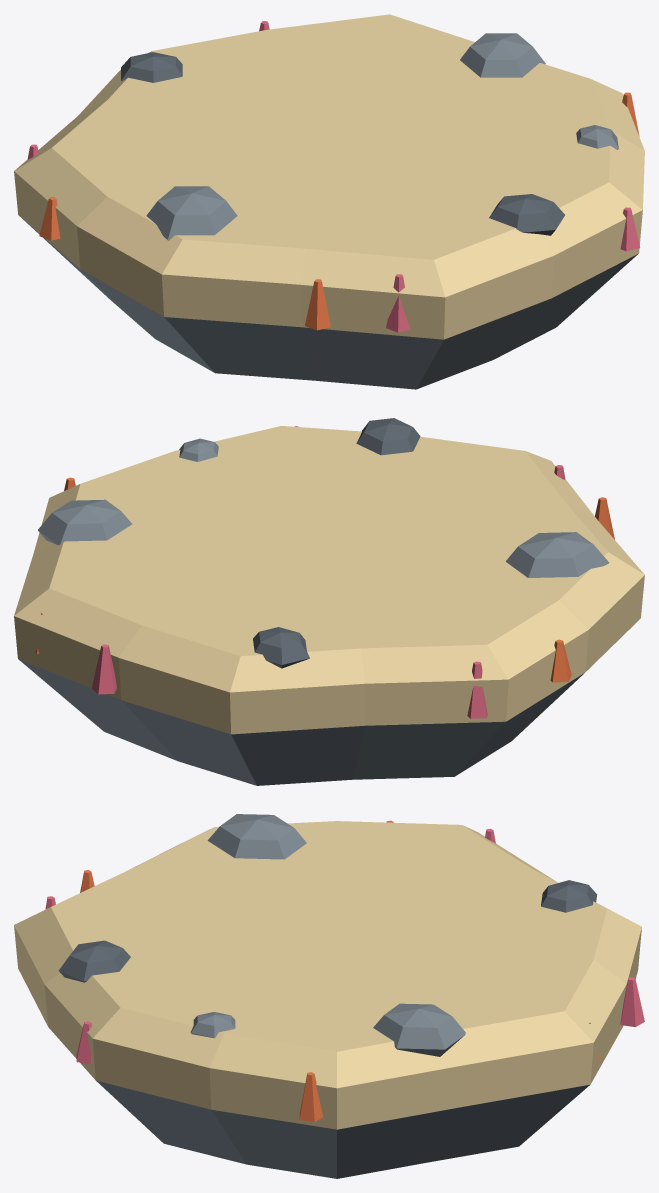
The model's file is reef.glb.
3 renders of one model, top to bottom at view 1: azimuth 30°, elevation 25°; view 2: azimuth 150°, elevation 25°; view 3: azimuth 270°, elevation 25°, orthographic. The views are drawn at different scales.
Parts seen in each view (by area): view 1: Body; view 2: Body; view 3: Body.
Boxes of the visible parts, x1=… form: Body: x1=14, y1=14, x2=644, y2=389; Body: x1=14, y1=418, x2=644, y2=785; Body: x1=14, y1=814, x2=644, y2=1178.
Bounding box in the file's own units: 7.95 × 2.41 × 7.97.
